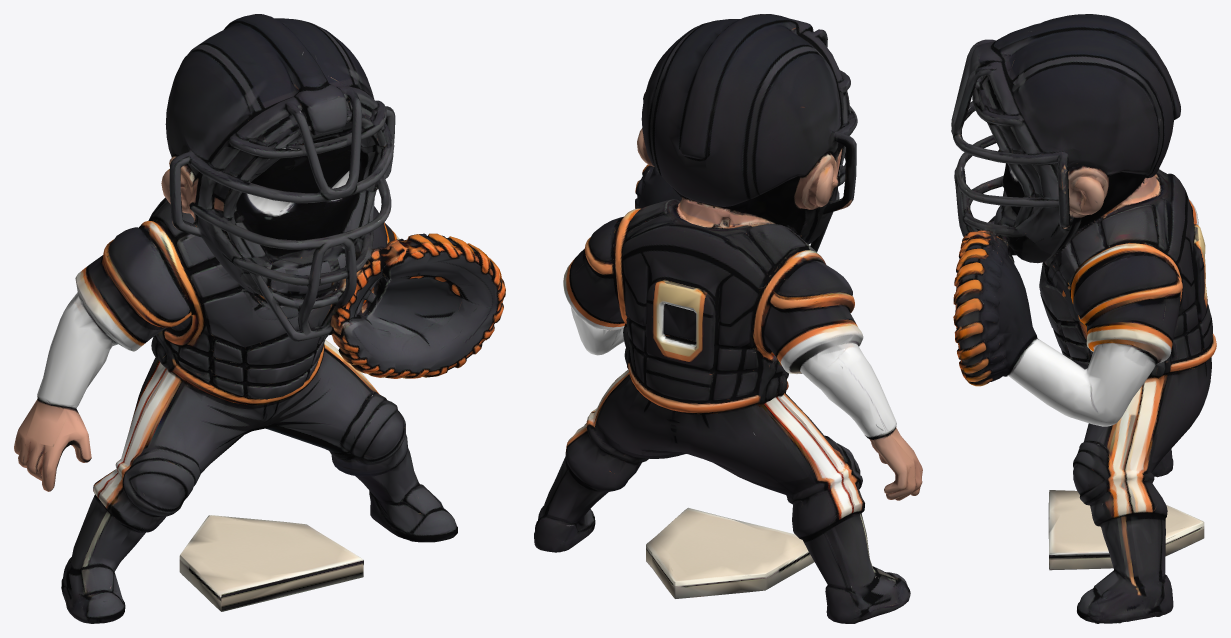
File: sd_catcher.glb
The picture shows the model from 3 angles, left to right: view 1: azimuth 30°, elevation 25°; view 2: azimuth 150°, elevation 25°; view 3: azimuth 270°, elevation 25°; orthographic projection. The views are drawn at different scales.
Parts seen in each view (by area): view 1: Mesh_0; view 2: Mesh_0; view 3: Mesh_0.
Boxes of the visible parts, x1,y1,x2,y2 form: Mesh_0: (14,14,505,623); Mesh_0: (534,14,922,623); Mesh_0: (951,14,1216,623).
Bounding box in the file's own units: 1.46 × 1.91 × 0.8858.
1 material, 1 textured.
